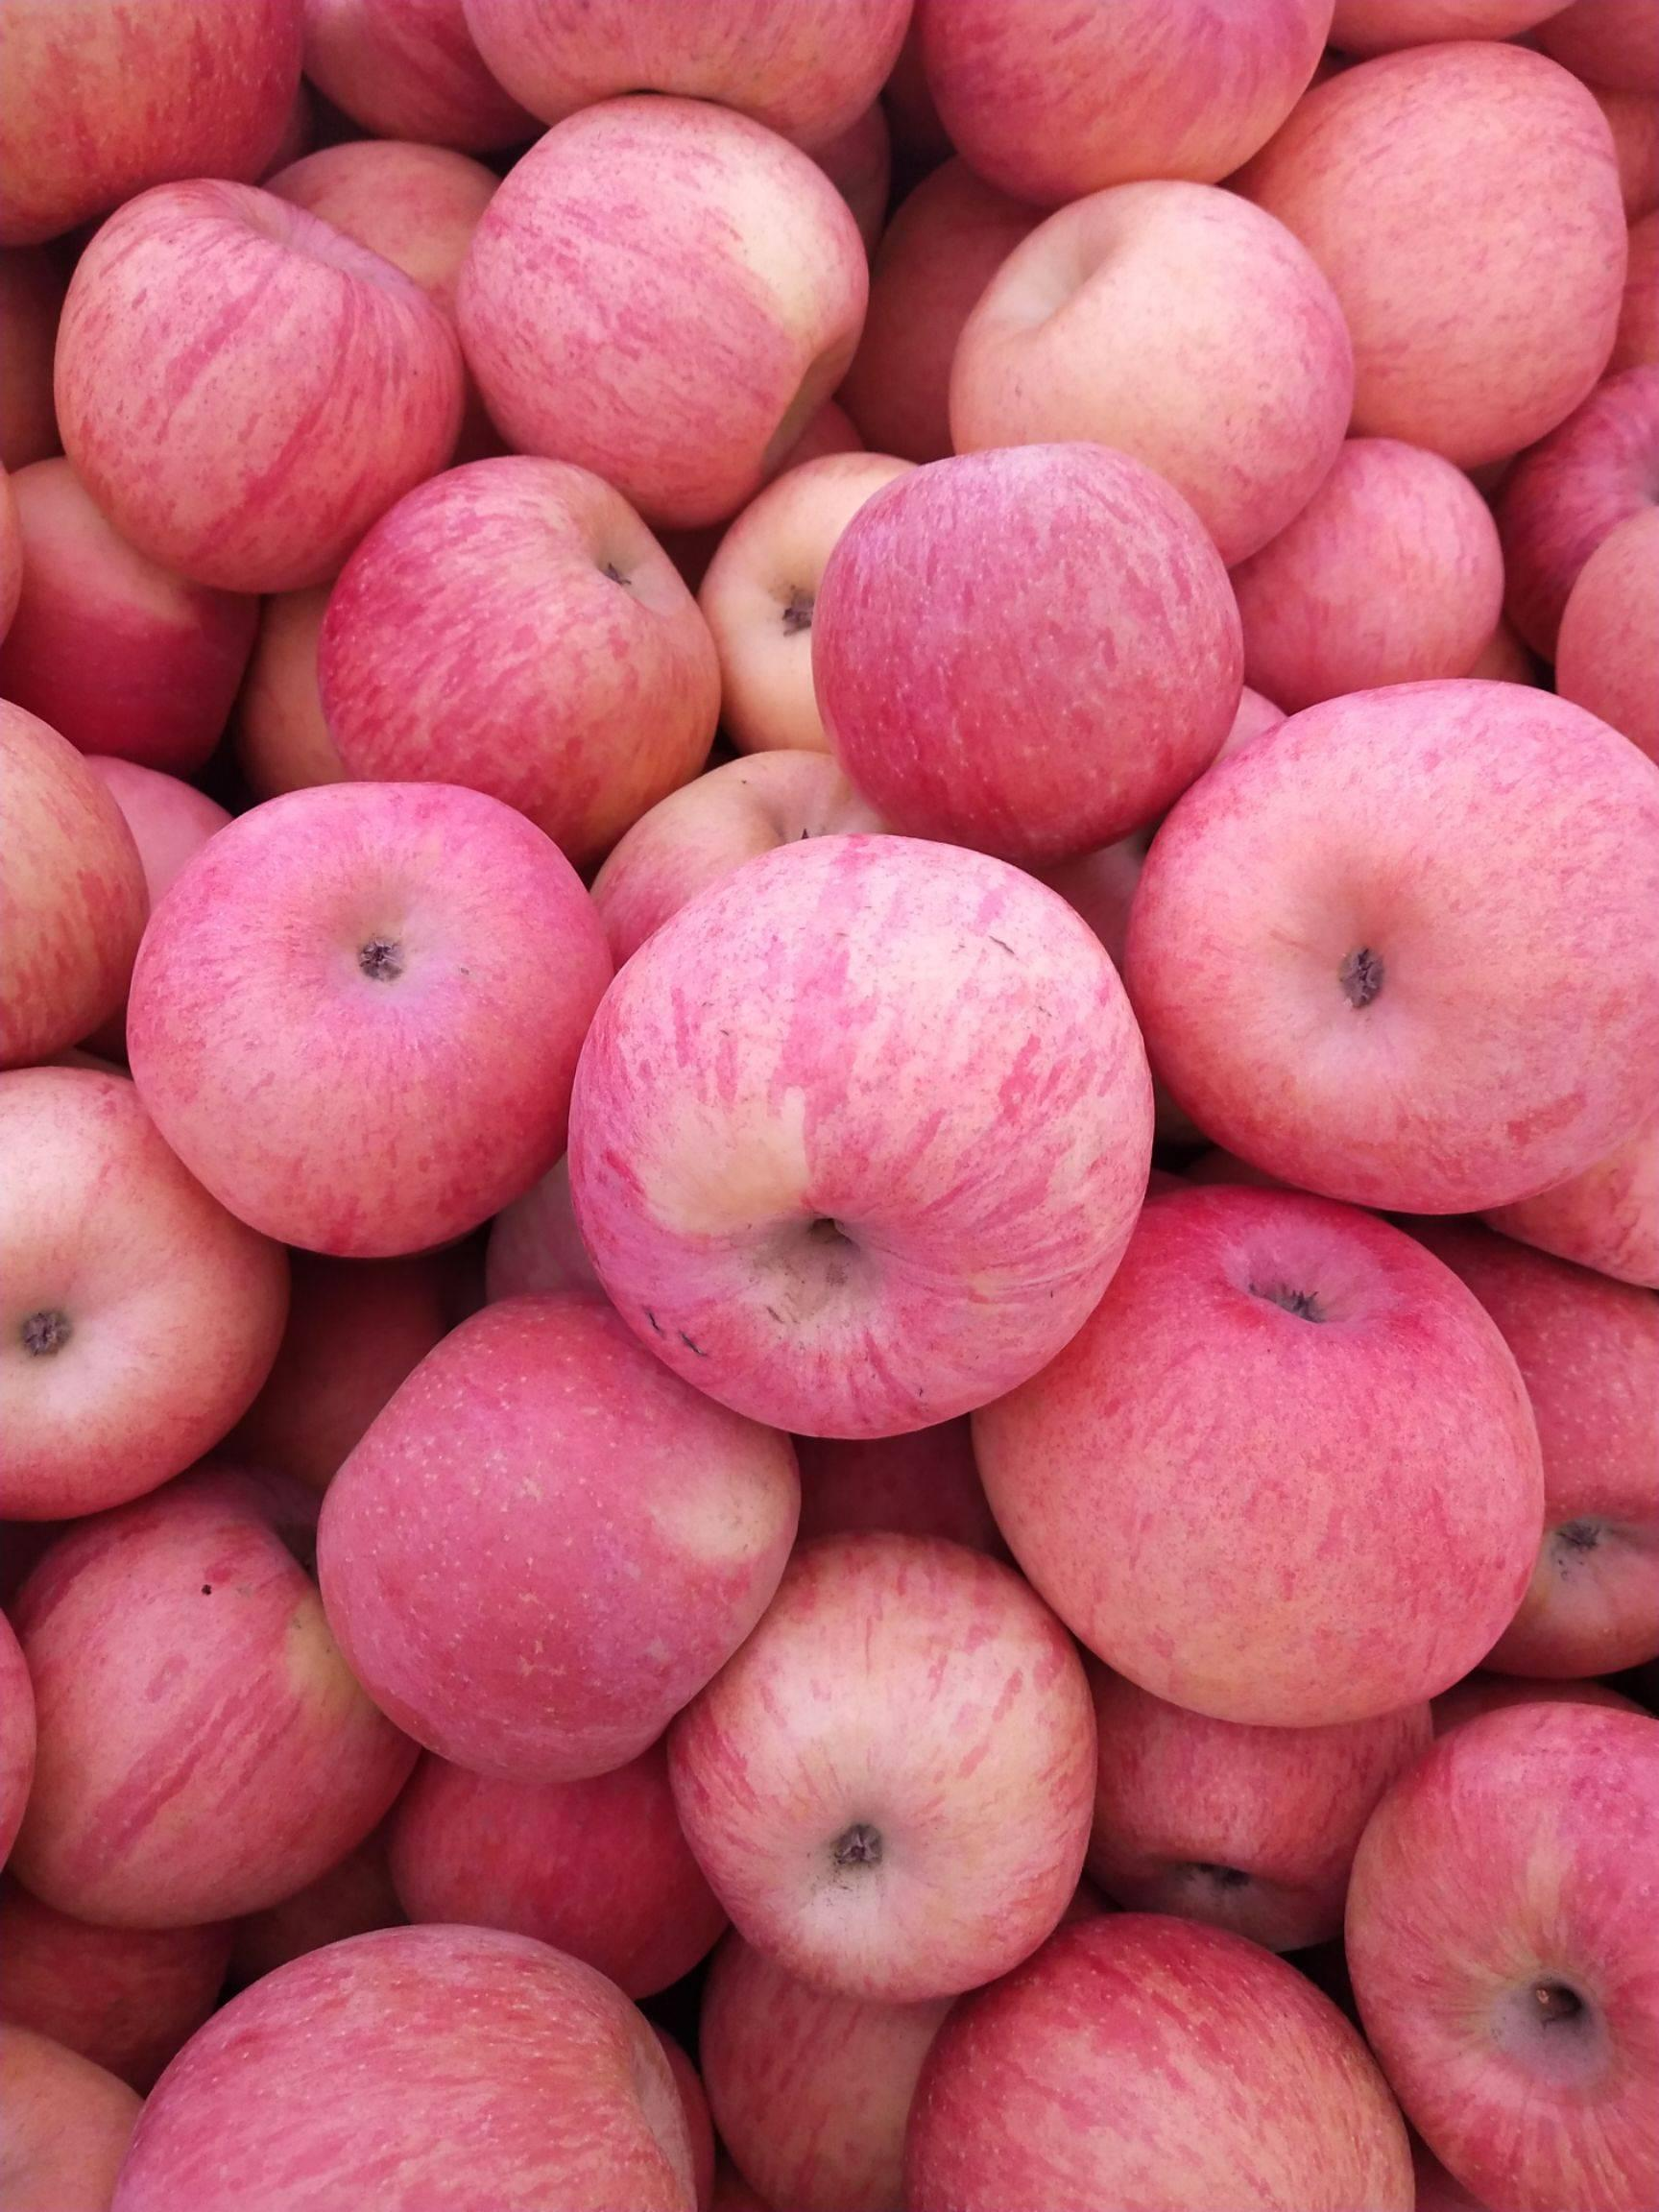apple: (549, 831, 1176, 1470), (979, 1195, 1547, 1726), (1091, 678, 1659, 1207), (650, 1501, 1124, 2005), (319, 1289, 793, 1792), (117, 779, 629, 1238), (1188, 42, 1643, 455), (816, 435, 1255, 853), (45, 183, 477, 582), (317, 430, 748, 829), (460, 92, 890, 491), (115, 1925, 713, 2203), (934, 171, 1364, 550), (40, 1482, 404, 1911), (911, 1918, 1403, 2198), (2, 1068, 270, 1505), (927, 2, 1333, 212), (690, 451, 910, 765), (465, 2, 901, 150), (2, 2, 295, 209)
